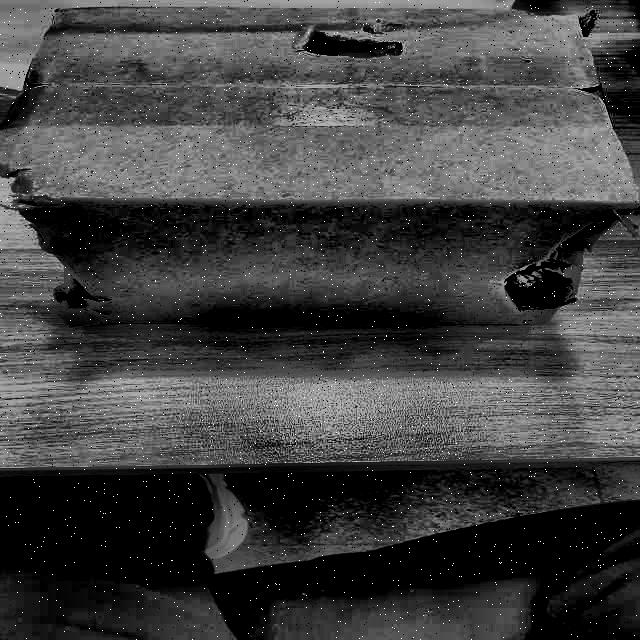box: (0, 0, 627, 336)
hole: (0, 176, 94, 329), (495, 206, 625, 314), (296, 26, 415, 60)
